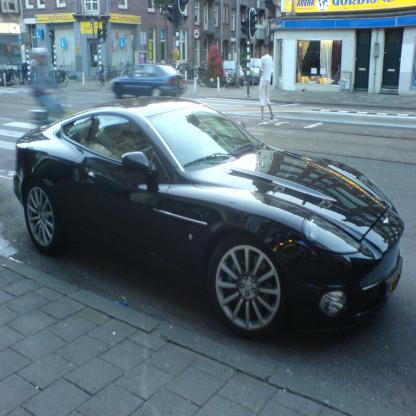Car: (13, 58, 405, 357)
